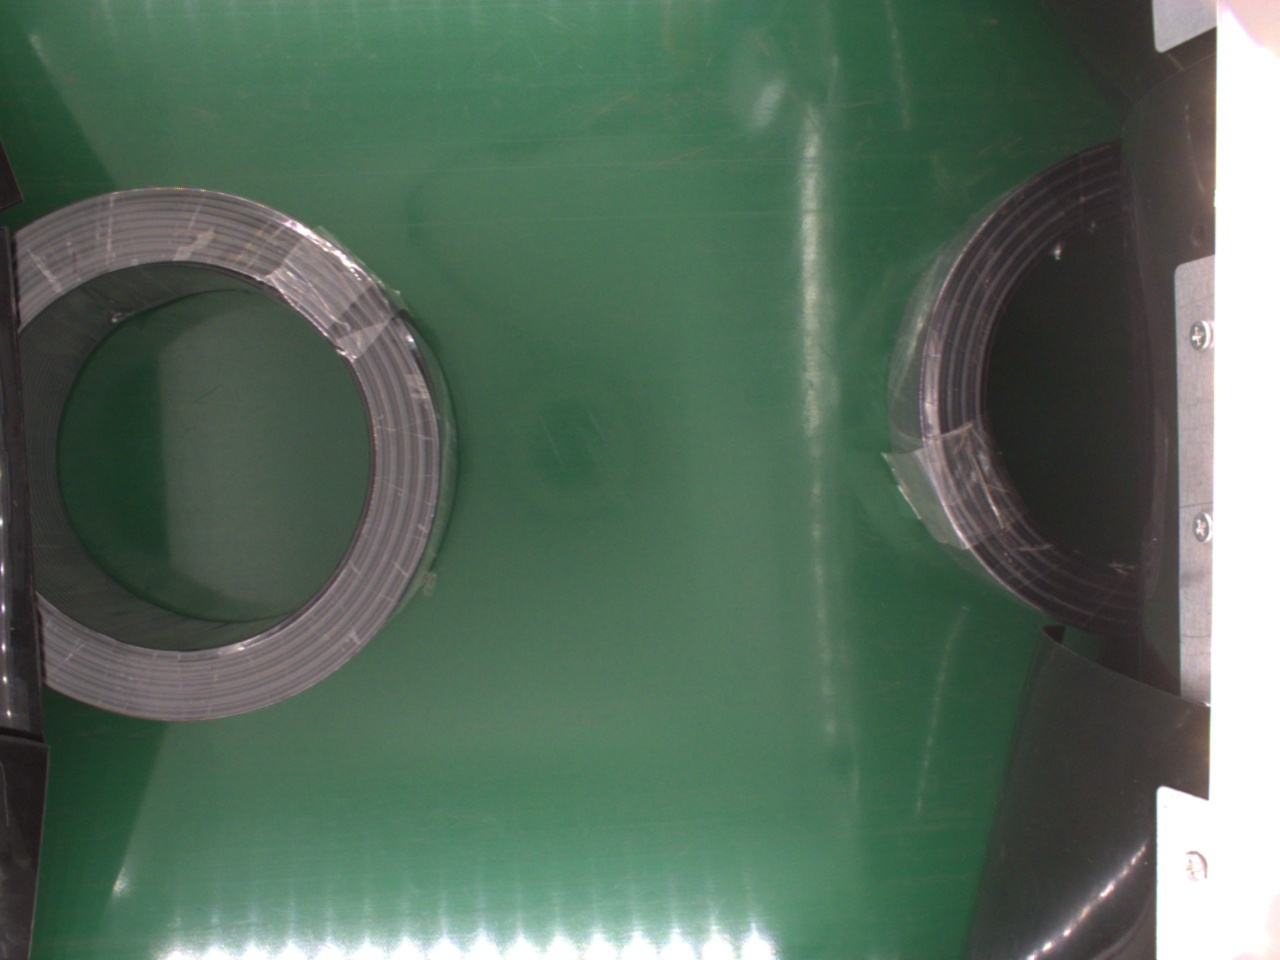black: (23, 179, 458, 726), (884, 135, 1166, 640)
